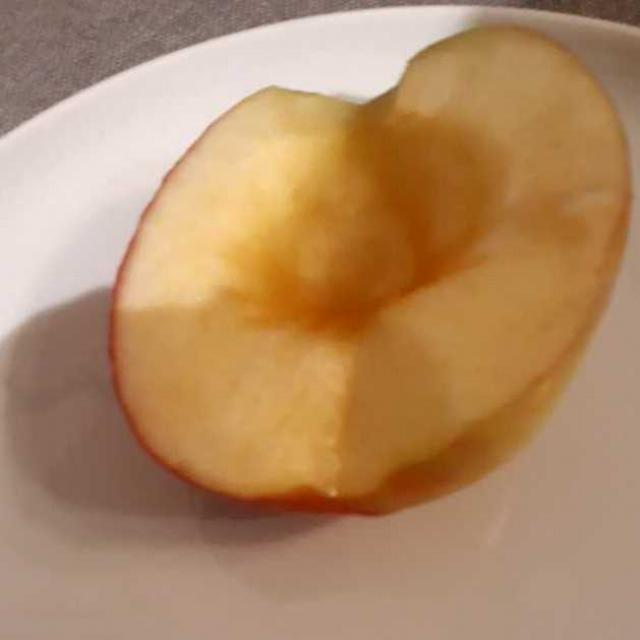apple: (117, 29, 616, 511)
